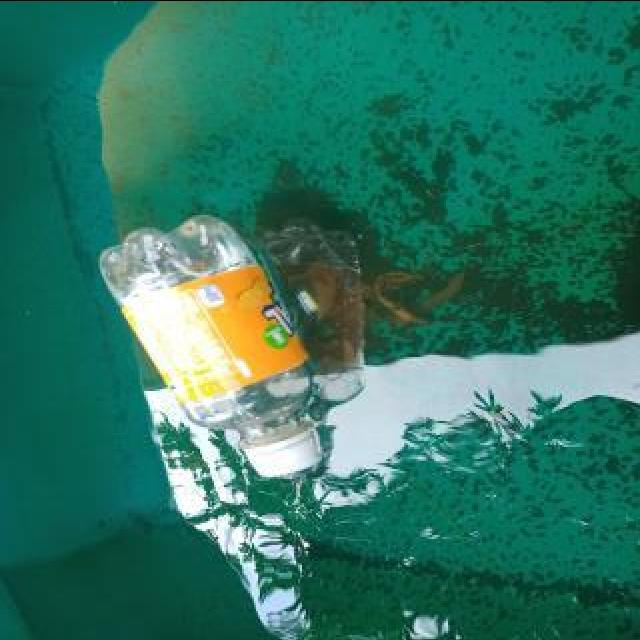Bottle: (95, 209, 327, 477)
